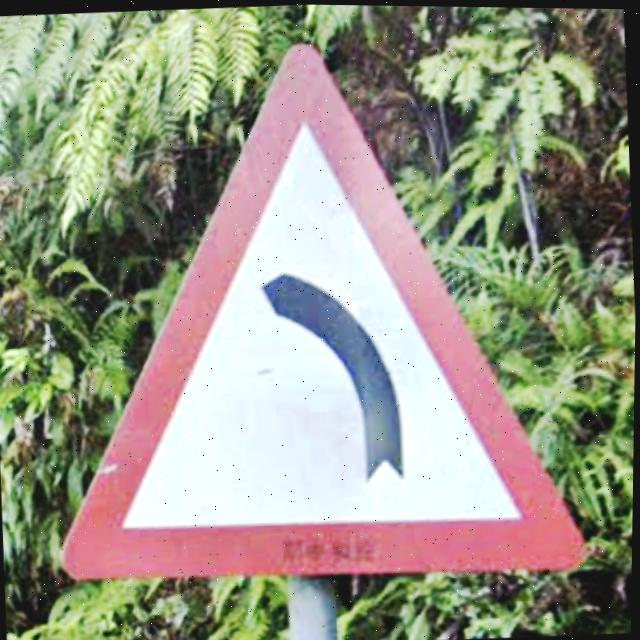leftbend: (62, 43, 591, 583)
